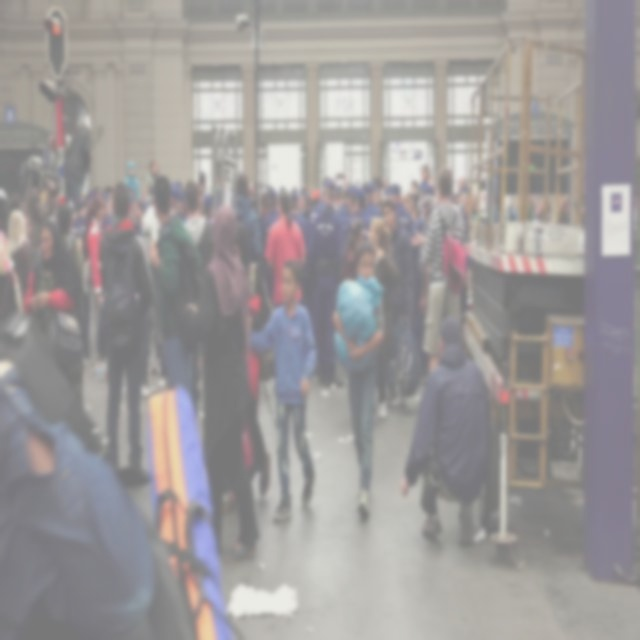pessoa: (0, 360, 194, 638), (184, 201, 262, 568), (398, 310, 493, 550), (94, 177, 158, 488), (248, 256, 318, 522), (330, 236, 387, 524), (221, 220, 275, 518), (146, 172, 204, 400), (21, 217, 86, 411), (421, 164, 468, 376), (304, 177, 346, 391), (380, 198, 422, 410), (366, 214, 402, 420), (410, 194, 441, 378), (264, 184, 306, 314), (84, 192, 108, 378), (138, 210, 162, 378), (22, 158, 58, 252), (53, 201, 87, 296), (183, 178, 214, 278), (234, 169, 263, 268), (62, 112, 92, 206), (94, 190, 108, 370), (0, 227, 25, 326), (260, 188, 280, 304), (338, 216, 364, 295), (306, 175, 332, 252), (288, 186, 310, 266), (464, 191, 479, 305), (494, 187, 536, 226), (140, 312, 158, 399), (344, 184, 372, 238), (388, 181, 414, 235), (348, 186, 372, 234), (458, 182, 476, 245), (400, 178, 420, 234), (250, 174, 272, 222), (194, 188, 224, 222), (71, 199, 89, 249), (123, 158, 141, 208), (130, 184, 150, 229), (363, 180, 384, 220), (21, 208, 40, 252), (308, 187, 326, 230), (372, 170, 392, 208), (169, 178, 187, 220), (146, 157, 162, 204), (555, 190, 575, 226), (332, 169, 351, 203), (448, 174, 466, 207), (416, 162, 434, 194), (335, 186, 352, 218), (532, 194, 550, 224), (47, 126, 60, 166), (0, 187, 14, 224), (198, 170, 214, 200), (572, 189, 584, 227), (633, 192, 639, 267), (297, 187, 309, 224), (20, 207, 32, 240), (550, 188, 562, 220), (213, 161, 226, 188), (103, 184, 115, 208), (429, 169, 439, 196), (85, 182, 101, 198), (424, 202, 436, 222), (13, 189, 25, 208), (355, 180, 368, 192), (302, 205, 310, 220), (304, 180, 310, 199), (292, 183, 298, 193)
